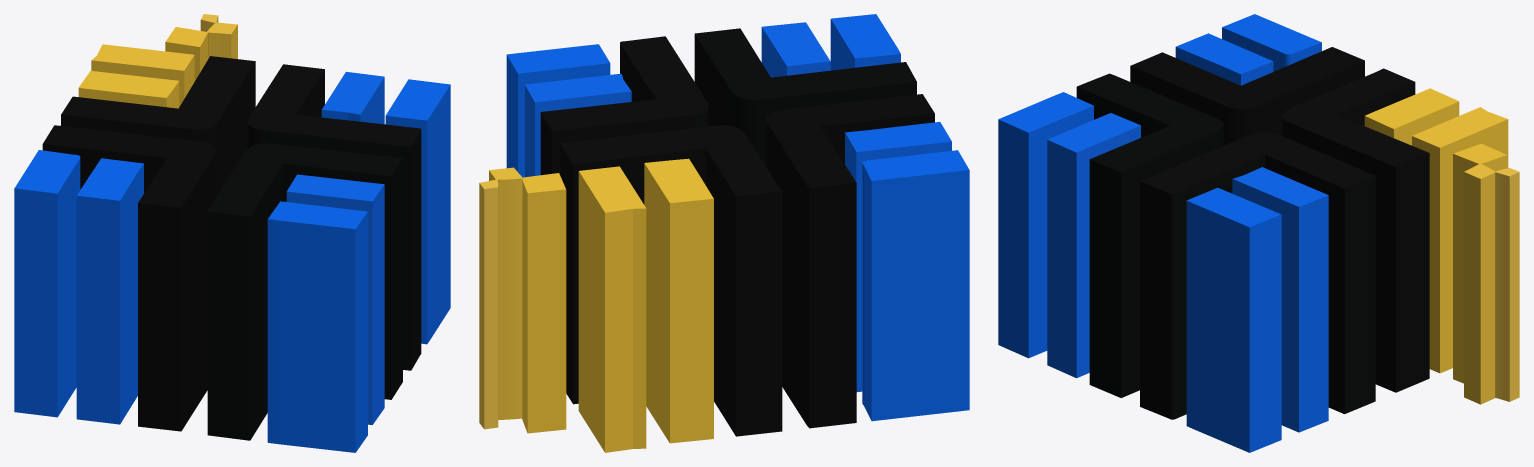
Rendered from ProjectName.obj.
3 renders of one model, left to right at view 1: azimuth 30°, elevation 25°; view 2: azimuth 150°, elevation 25°; view 3: azimuth 270°, elevation 25°, orthographic. The views are drawn at different scales.
Parts seen in each view (by area): view 1: 003_Path, 011_Path, 002_Path, 007_Path, 009_Path, 000_Path, 001_Path, 008_Path, 010_Path, 004_Path, 005_Path, 006_Path (+2 smaller); view 2: 001_Path, 007_Path, 002_Path, 004_Path, 005_Path, 003_Path, 012_Path, 000_Path, 013_Path, 014_Path, 008_Path, 009_Path (+3 smaller); view 3: 000_Path, 008_Path, 001_Path, 003_Path, 011_Path, 006_Path, 010_Path, 002_Path, 004_Path, 013_Path, 014_Path, 012_Path (+3 smaller).
Part boxes in pixels (left/top/right/bottom): 003_Path: left=207, top=143, right=402, bottom=440; 011_Path: left=267, top=201, right=367, bottom=452; 002_Path: left=42, top=125, right=216, bottom=431; 007_Path: left=14, top=150, right=80, bottom=417; 009_Path: left=76, top=158, right=143, bottom=424; 000_Path: left=247, top=64, right=421, bottom=370; 001_Path: left=61, top=56, right=255, bottom=195; 008_Path: left=385, top=79, right=450, bottom=344; 010_Path: left=286, top=174, right=384, bottom=424; 004_Path: left=91, top=44, right=194, bottom=106; 005_Path: left=78, top=71, right=179, bottom=108; 006_Path: left=321, top=71, right=384, bottom=124; 001_Path: left=560, top=125, right=782, bottom=436; 007_Path: left=862, top=150, right=969, bottom=421; 002_Path: left=766, top=94, right=934, bottom=428; 004_Path: left=578, top=166, right=646, bottom=452; 005_Path: left=644, top=158, right=713, bottom=443; 003_Path: left=694, top=28, right=916, bottom=166; 012_Path: left=522, top=173, right=566, bottom=433; 000_Path: left=540, top=36, right=708, bottom=175; 013_Path: left=489, top=167, right=522, bottom=419; 014_Path: left=479, top=179, right=498, bottom=429; 008_Path: left=506, top=44, right=610, bottom=177; 009_Path: left=845, top=122, right=951, bottom=392; 000_Path: left=1140, top=132, right=1375, bottom=419; 008_Path: left=1186, top=187, right=1281, bottom=452; 001_Path: left=1282, top=68, right=1429, bottom=392; 003_Path: left=1076, top=73, right=1223, bottom=397; 011_Path: left=998, top=92, right=1093, bottom=358; 006_Path: left=1232, top=167, right=1328, bottom=432; 010_Path: left=1047, top=113, right=1140, bottom=378; 002_Path: left=1130, top=47, right=1364, bottom=145; 004_Path: left=1412, top=107, right=1508, bottom=373; 013_Path: left=1464, top=164, right=1495, bottom=404; 014_Path: left=1495, top=168, right=1519, bottom=401; 012_Path: left=1453, top=143, right=1506, bottom=383.
Bounding box in the file's own units: 246 × 121 × 254.
